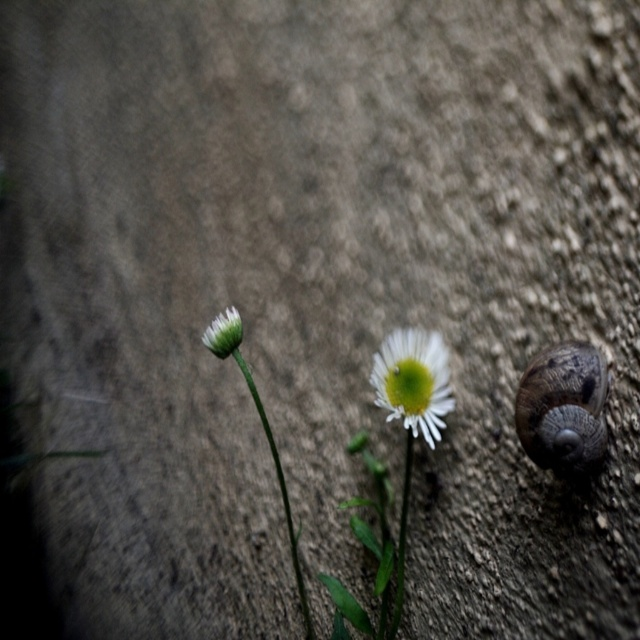Snail: (511, 341, 614, 483)
